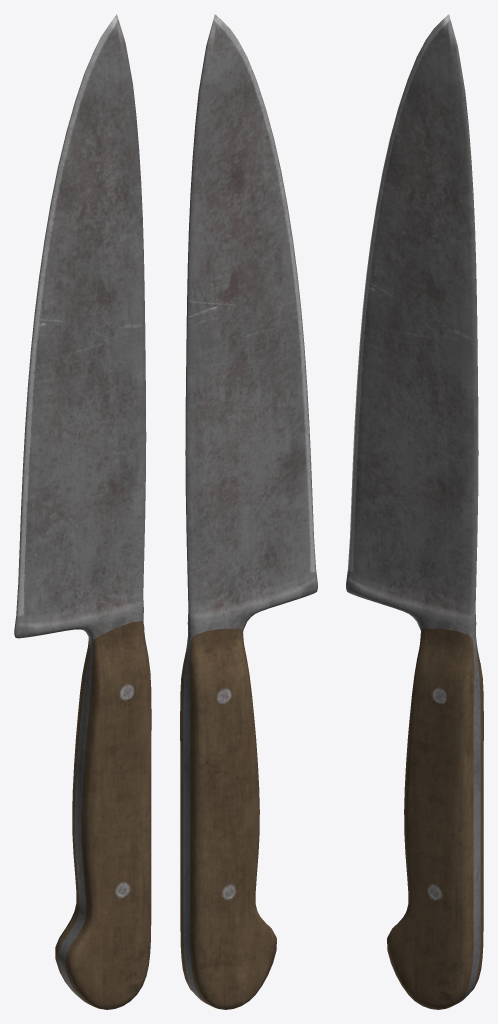
Rendered from KitchenKnifeModel.fbx.
3 renders of one model, left to right at view 1: azimuth 30°, elevation 25°; view 2: azimuth 210°, elevation 25°; view 3: azimuth 330°, elevation 25°, orthographic.
Parts seen in each view (by area): view 1: kitchen_knife; view 2: kitchen_knife; view 3: kitchen_knife.
Boxes of the visible parts, <box> form: kitchen_knife: <box>14,14,151,1009</box>; kitchen_knife: <box>180,14,317,1009</box>; kitchen_knife: <box>346,14,483,1009</box>.
Bounding box in the file's own units: 4.08 × 29.35 × 1.08.
2 materials, 2 textured.
